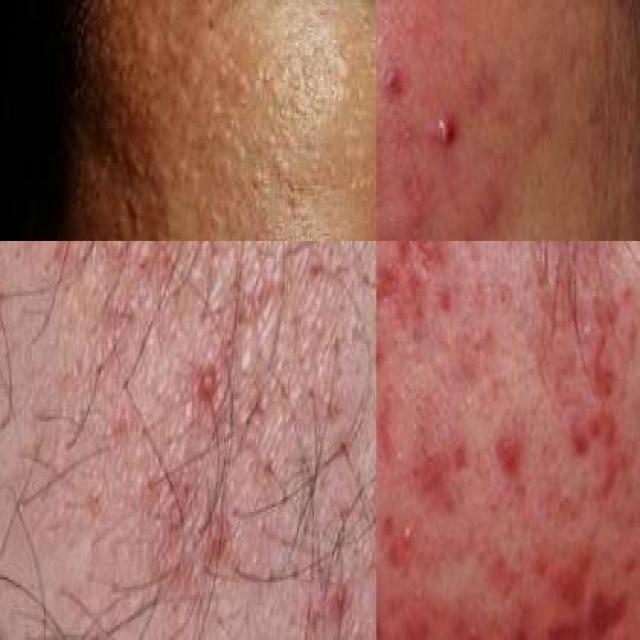Pimples: (576, 327, 626, 413), (547, 458, 582, 536), (384, 504, 424, 572), (426, 98, 466, 164), (194, 342, 231, 402), (323, 571, 357, 629), (402, 574, 432, 628), (378, 241, 424, 261), (631, 527, 640, 587)
